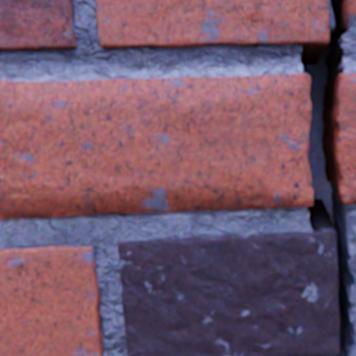brick: (119, 230, 339, 355), (0, 245, 103, 355), (97, 0, 329, 48), (0, 0, 77, 50), (347, 0, 355, 19)
broken_brick: (0, 73, 313, 218), (336, 74, 355, 203)
crack: (300, 0, 355, 355)
